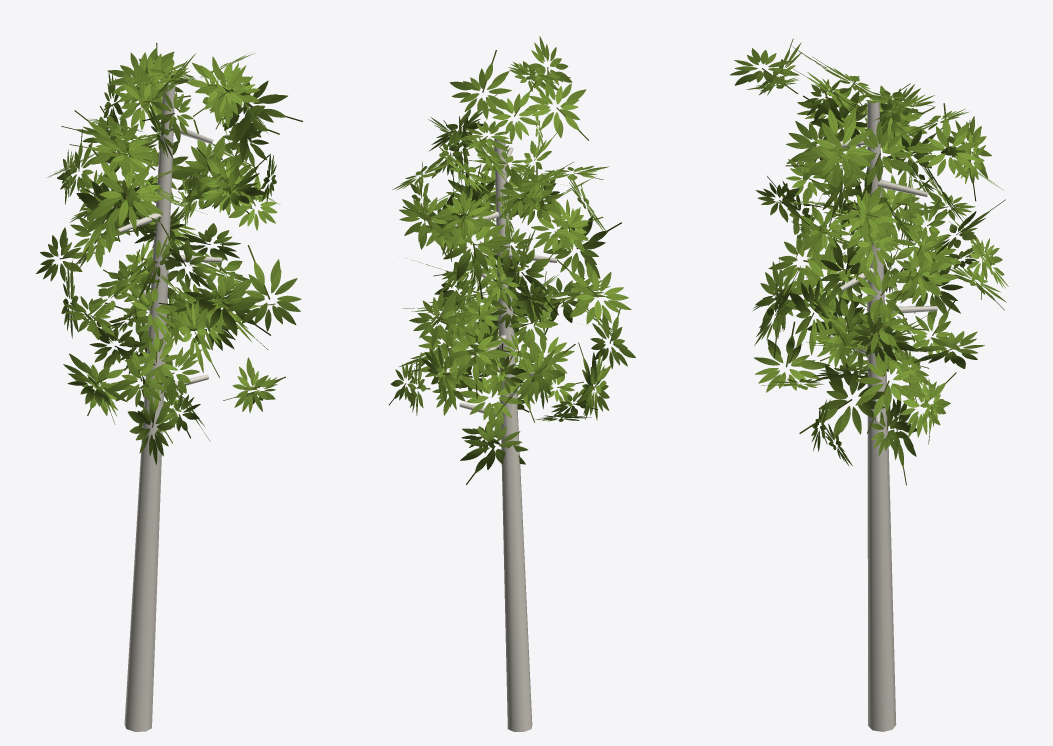
File: birch.glb
3 renders of one model, left to right at view 1: azimuth 30°, elevation 25°; view 2: azimuth 150°, elevation 25°; view 3: azimuth 270°, elevation 25°, orthographic. The views are drawn at different scales.
Visible parts, largest first — view 1: Birch; view 2: Birch; view 3: Birch.
Boxes of the visible parts, bbox=[...] form: Birch: bbox=[36, 43, 302, 731]; Birch: bbox=[389, 36, 635, 731]; Birch: bbox=[730, 38, 1008, 731].
Bounding box in the file's own units: 3.54 × 9.11 × 3.92.
2 materials, 1 textured.
